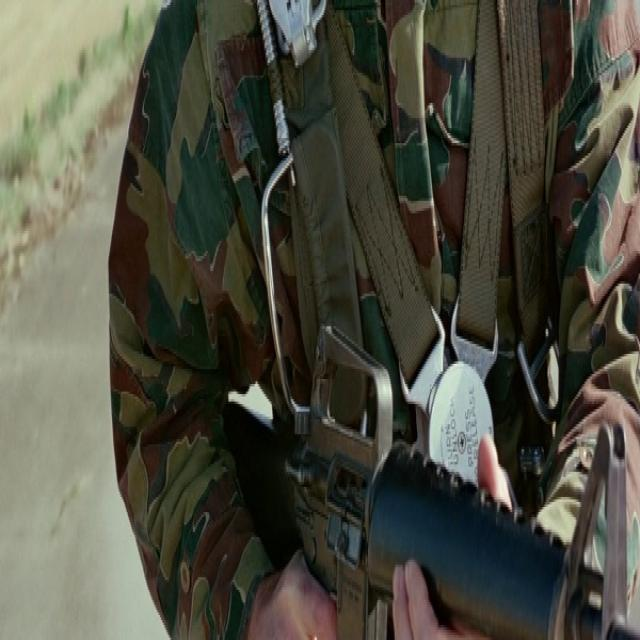rifle: (223, 310, 640, 640)
